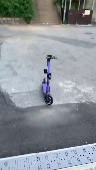beam: (39, 53, 60, 107)
